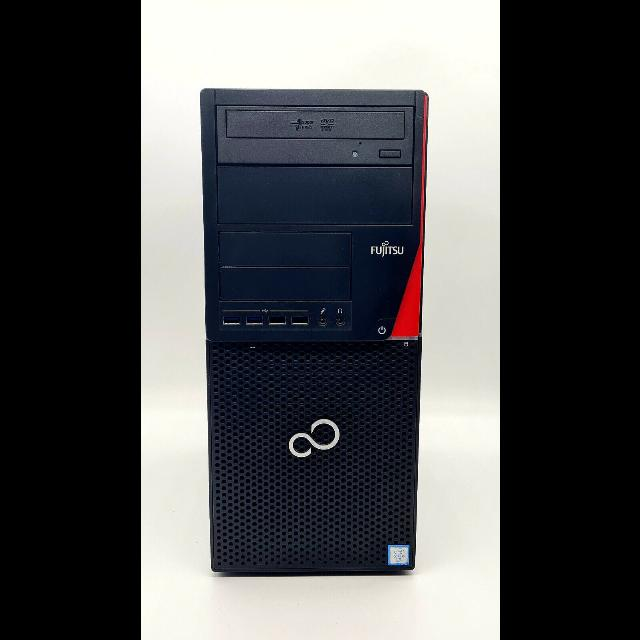Desktop-PC: (195, 82, 429, 580)
